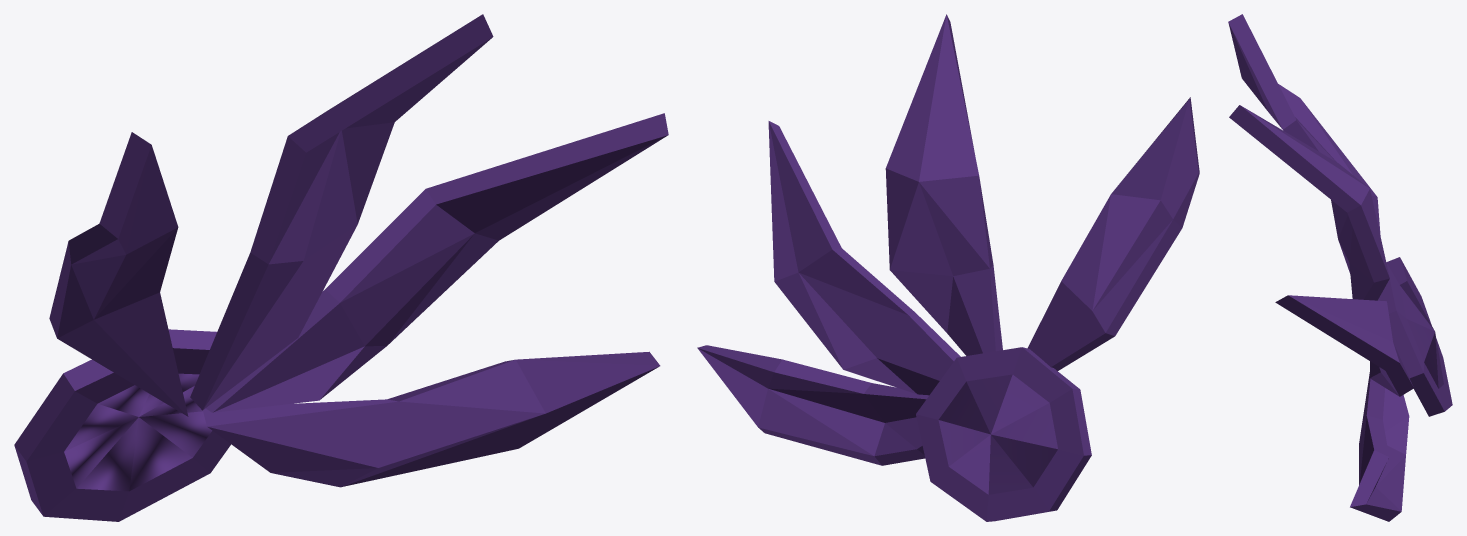
The model's file is F_capp.fbx.
3 views of the same model, side by side, from view 1: azimuth 30°, elevation 25°; view 2: azimuth 150°, elevation 25°; view 3: azimuth 270°, elevation 25° (orthographic). The views are drawn at different scales.
Visible parts, largest first — view 1: piume; view 2: piume; view 3: piume.
Part boxes in pixels (x1,y1,x2,y2): piume: (14,14,668,521); piume: (697,14,1199,521); piume: (1228,14,1452,521).
Size of the model in its own units: 29.07 by 24.62 by 13.32.
